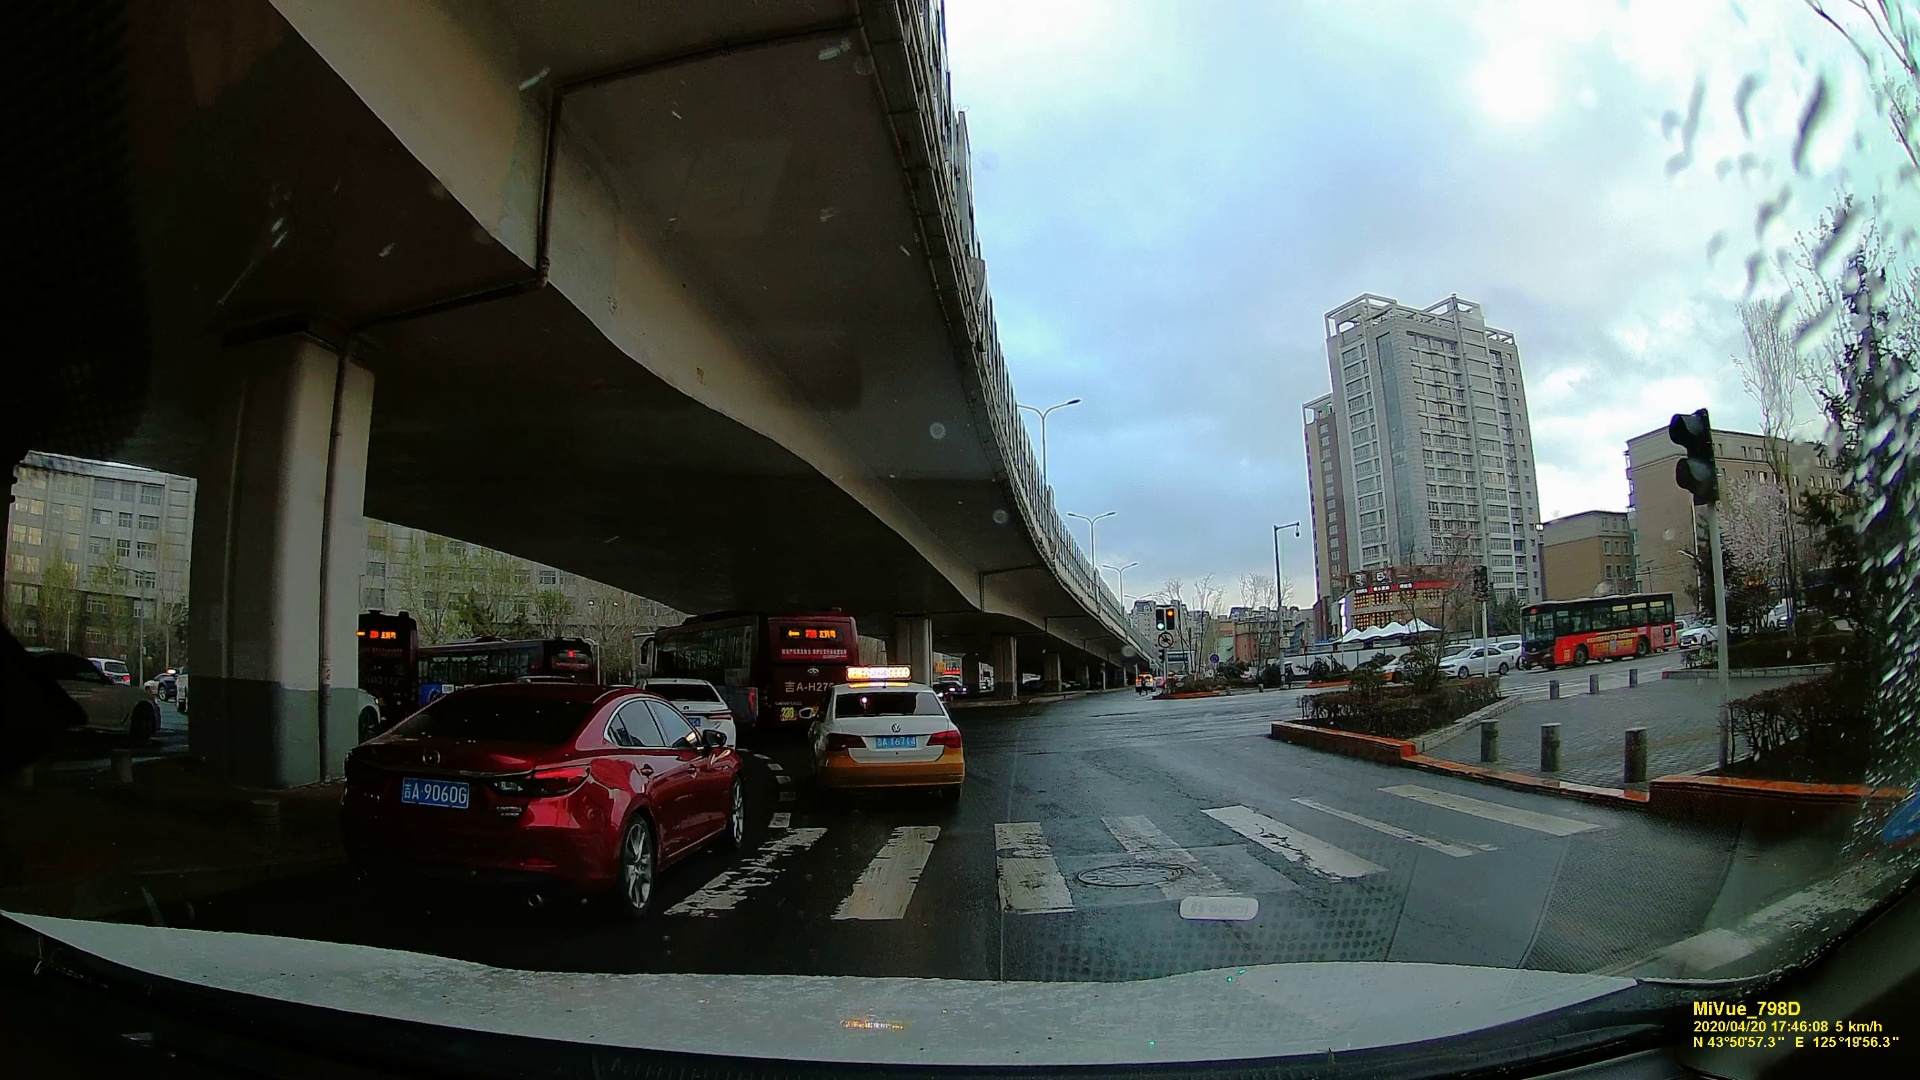bus: (649, 610, 849, 706), (417, 636, 605, 704), (1517, 593, 1672, 668), (351, 611, 416, 696)
person: (1139, 676, 1148, 694)
traffic_sign: (1667, 410, 1715, 506), (1165, 608, 1176, 632), (1154, 608, 1165, 631)
vehicle: (366, 668, 758, 920), (814, 686, 964, 812), (1440, 645, 1510, 678)
